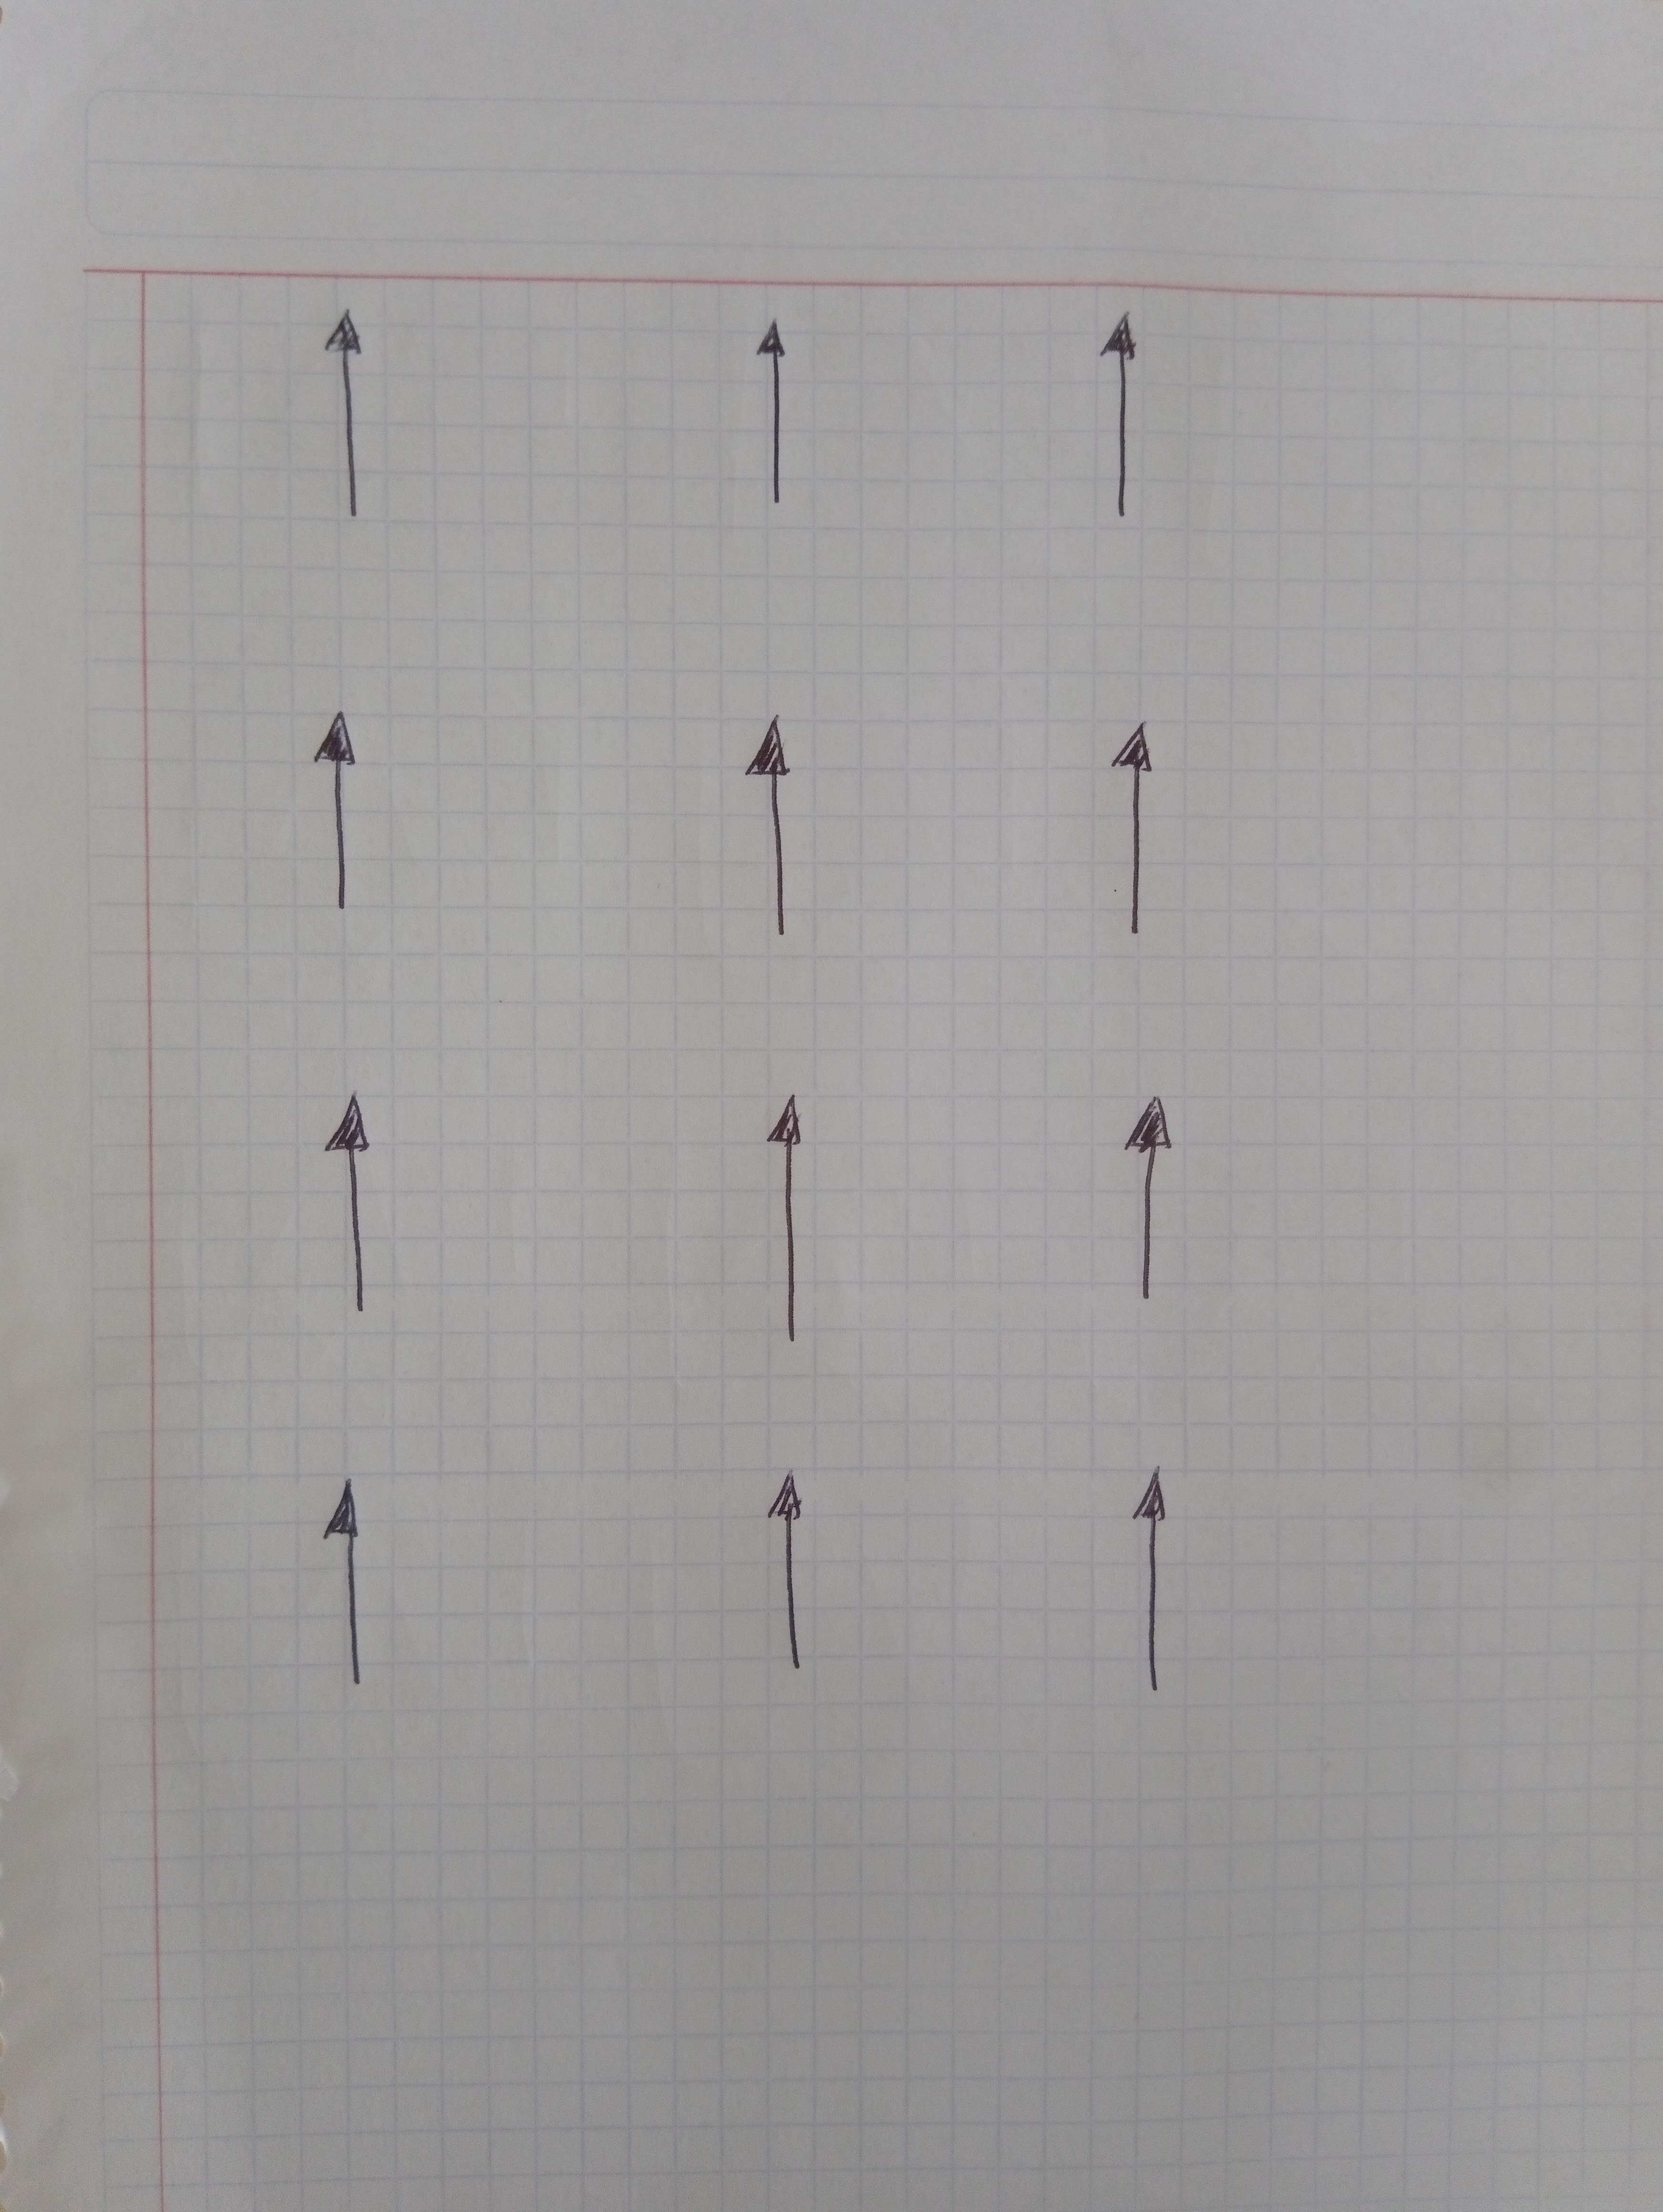arrow_line_up: (262, 286, 398, 553), (720, 1088, 840, 1383), (1069, 318, 1212, 553), (1052, 728, 1209, 931), (734, 1446, 856, 1697), (1108, 1070, 1216, 1353), (309, 1084, 414, 1360), (278, 716, 409, 918), (297, 1465, 398, 1709), (1108, 1449, 1191, 1704), (742, 721, 828, 964), (730, 325, 816, 524)
